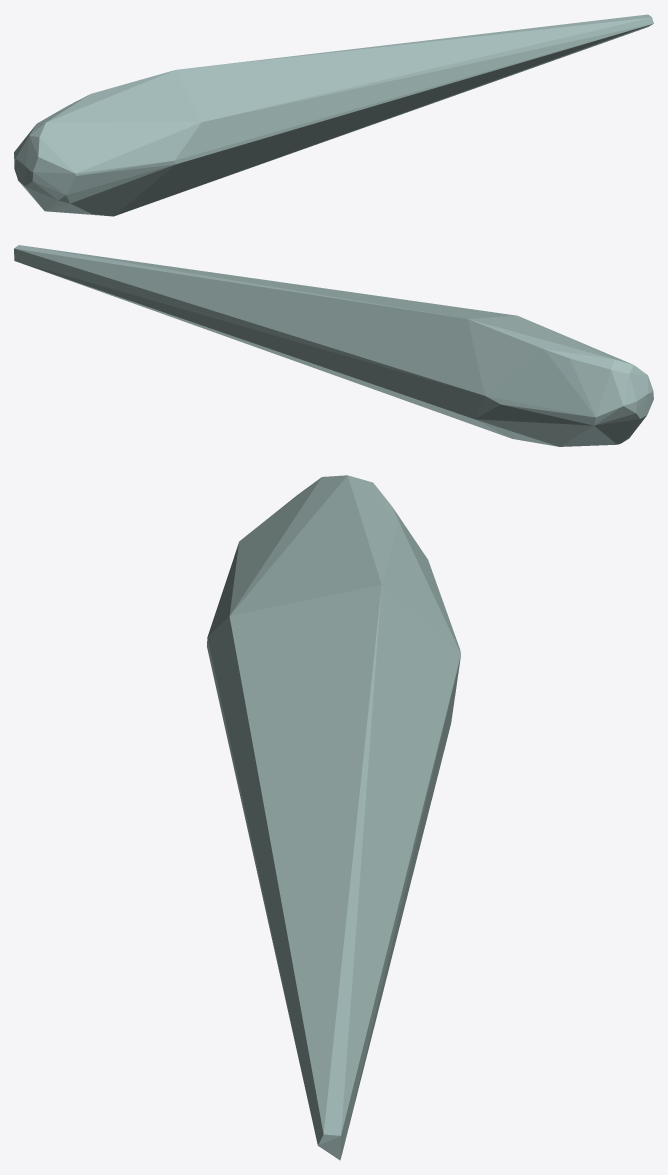
File: handTool_screwdriver_torx_t10_a01.glb
3 renders of one model, top to bottom at view 1: azimuth 30°, elevation 25°; view 2: azimuth 150°, elevation 25°; view 3: azimuth 270°, elevation 25°, orthographic. The views are drawn at different scales.
Visible parts, largest first — view 1: geometry_0; view 2: geometry_0; view 3: geometry_0.
Boxes of the visible parts, left/top/right/bottom form: geometry_0: left=14, top=14, right=653, bottom=216; geometry_0: left=14, top=245, right=653, bottom=446; geometry_0: left=207, top=475, right=460, bottom=1160.
Bounding box in the file's own units: 0.48 × 0.0847 × 0.0843.
